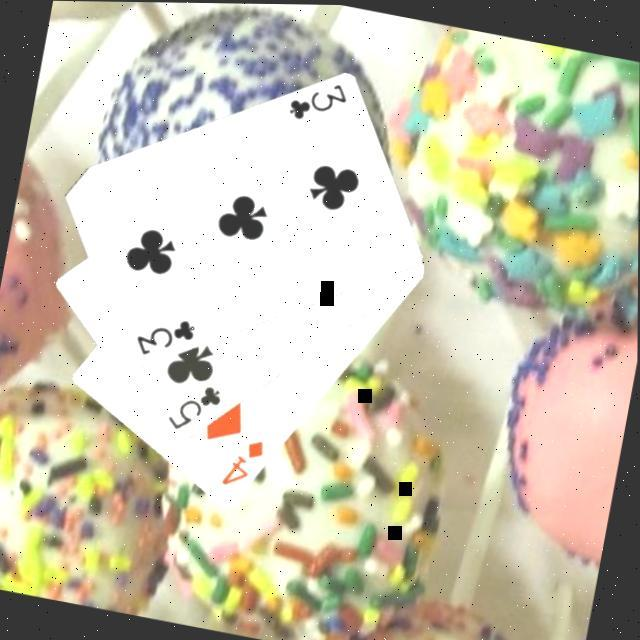3C: (130, 308, 200, 368), (283, 71, 353, 131)
4D: (218, 431, 270, 496)
5C: (162, 376, 227, 442)
